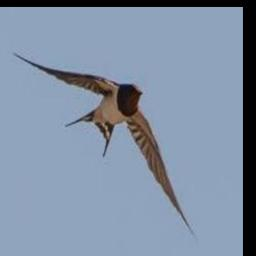Swallow: (12, 53, 198, 241)
